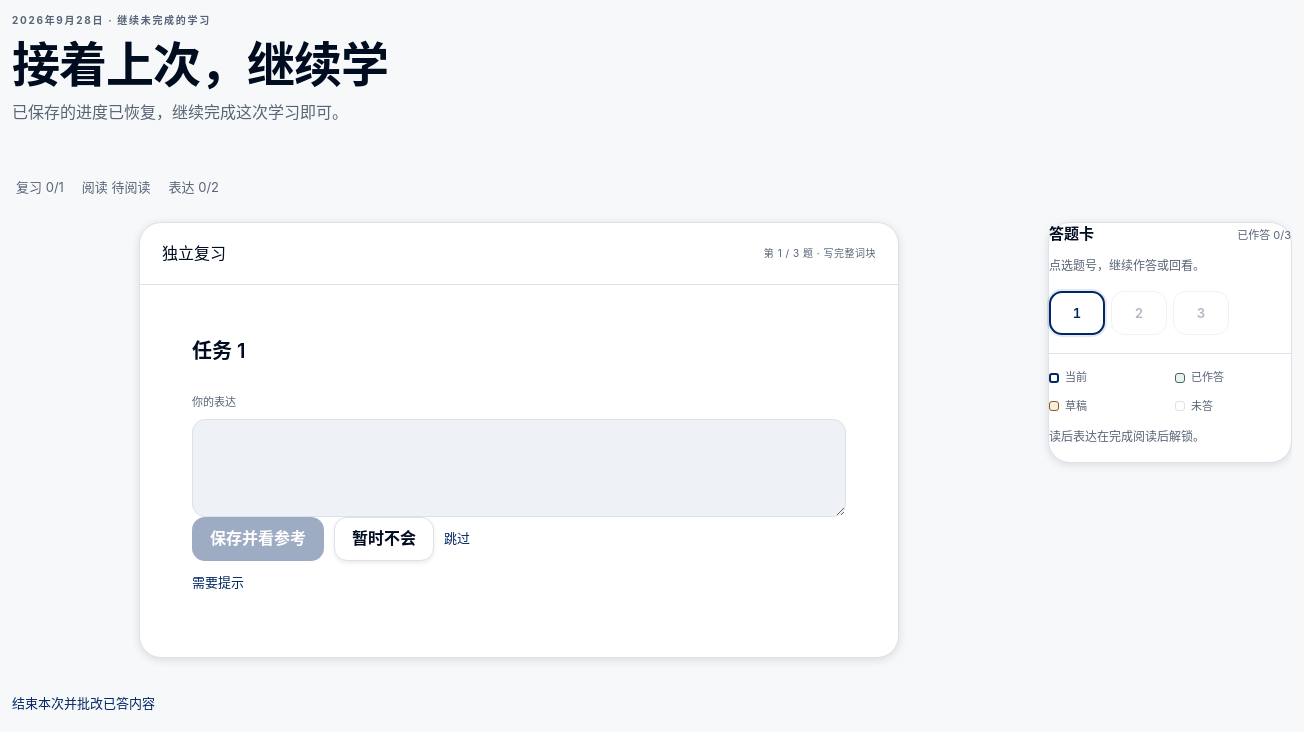
lesson phases and evidence › keeps private rubric and material hidden until review is saved
Expected: the heading "任务 1" is shown, [192,338,246,362]
Expected: the text "Story" is not shown
Click the button "跳过" at (457, 539), box [444,517,470,561]
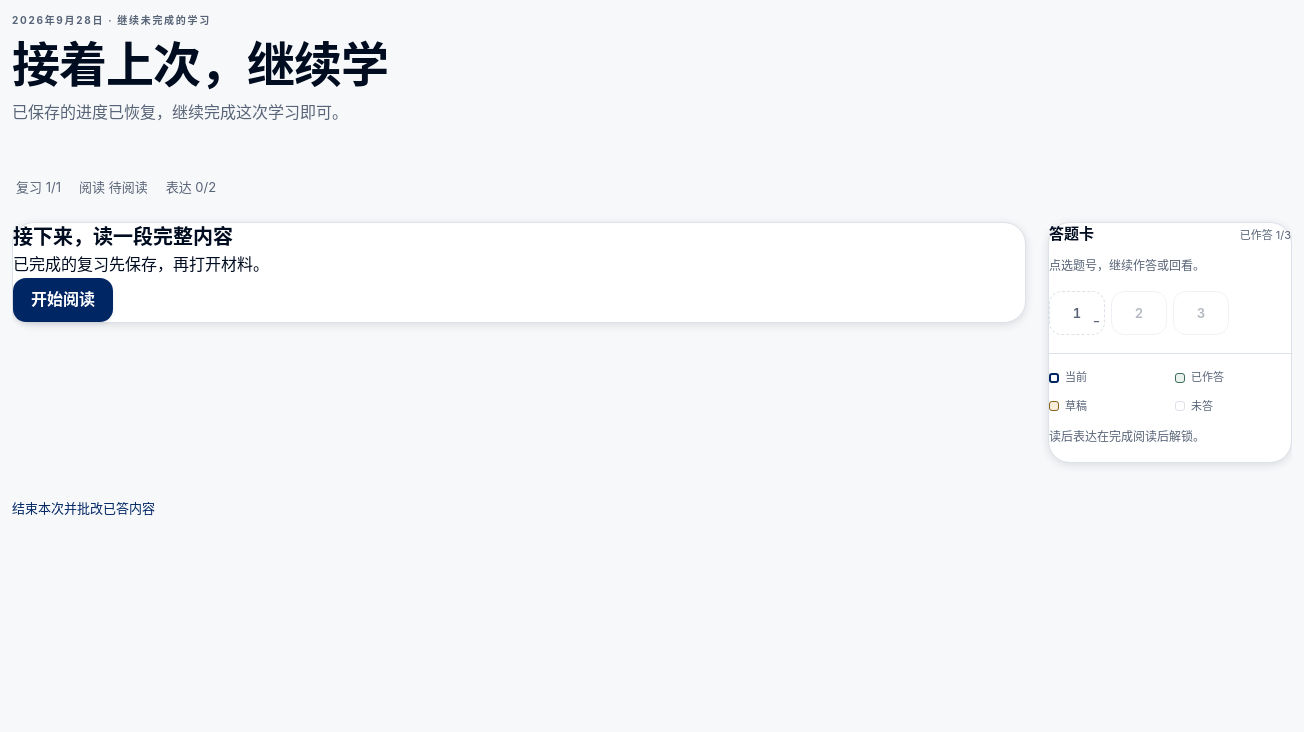
Now the button "开始阅读" is shown
Now the button "开始阅读" is enabled
Click the button "开始阅读" at (63, 300), box [13,278,113,322]
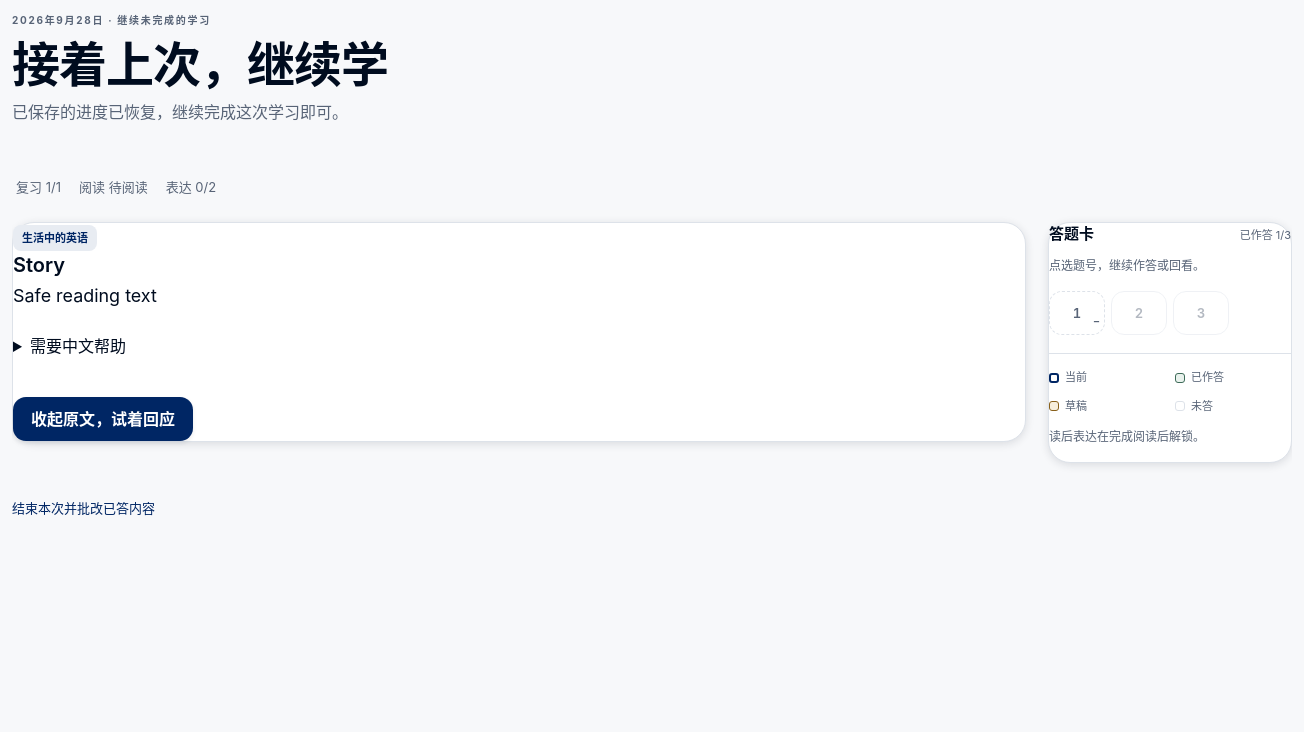
Now the heading "Story" is shown, box [13,253,65,277]
